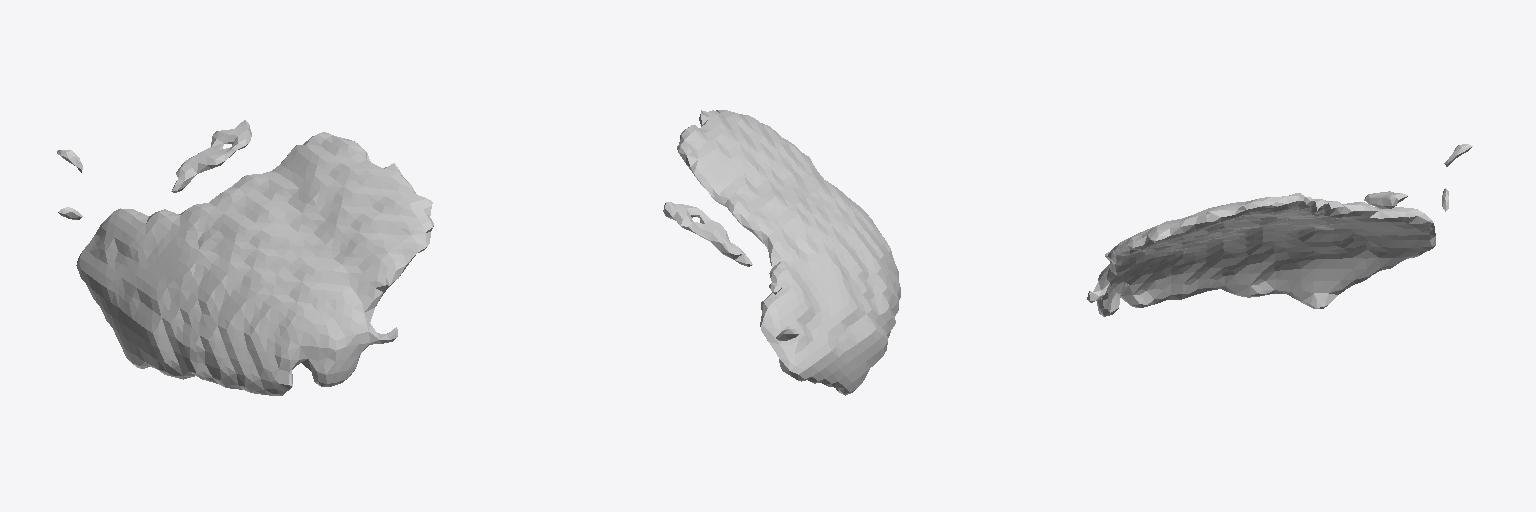
The model's file is salt.obj.
The picture shows the model from 3 angles: view 1: azimuth 30°, elevation 25°; view 2: azimuth 150°, elevation 25°; view 3: azimuth 270°, elevation 25°; orthographic projection.
Visible parts, largest first — view 1: set1 set2 tweakSet2; view 2: set1 set2 tweakSet2; view 3: set1 set2 tweakSet2.
Boxes of the visible parts, <box> form: set1 set2 tweakSet2: <box>57,120,433,395</box>; set1 set2 tweakSet2: <box>663,110,900,395</box>; set1 set2 tweakSet2: <box>1087,144,1472,316</box>.
Size of the model in its own units: 0.0202 by 0.0166 by 0.0293.